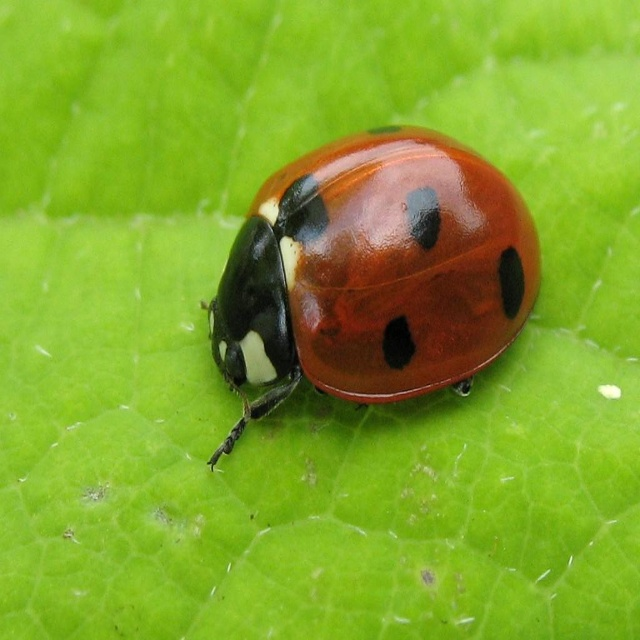Ladybug: (201, 122, 540, 470)
